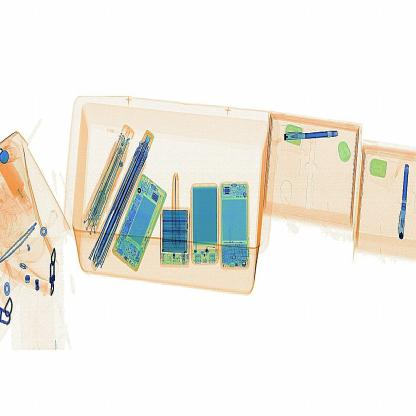pliers: (162, 155, 186, 246)
